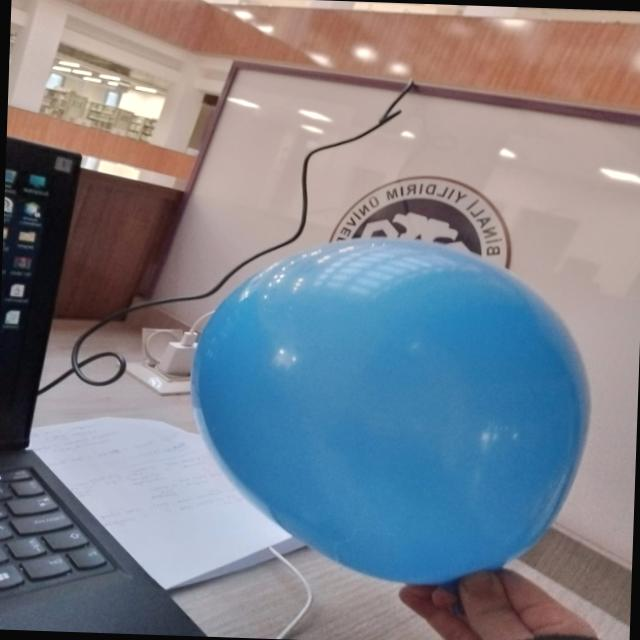balloon: (191, 237, 589, 584)
